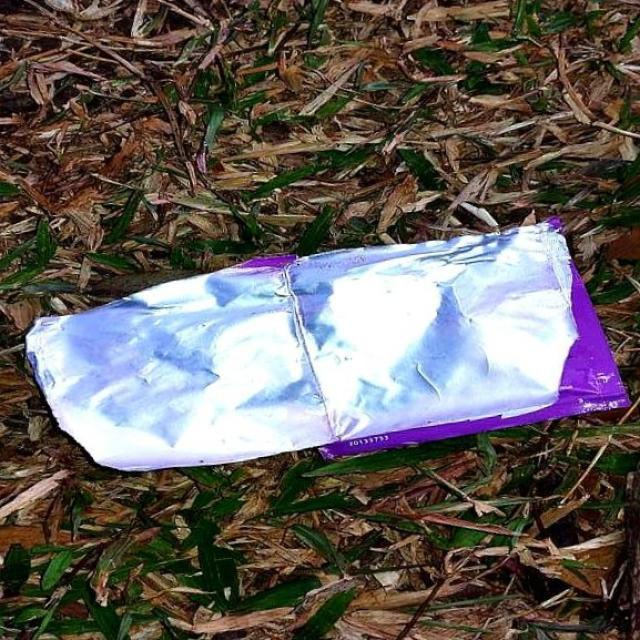Non-biodegradable: (19, 212, 638, 506)
